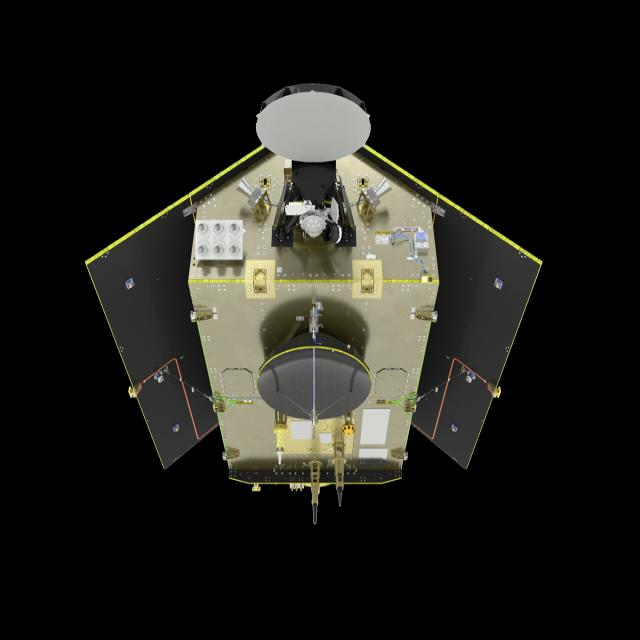satellite: (53, 63, 565, 553)
